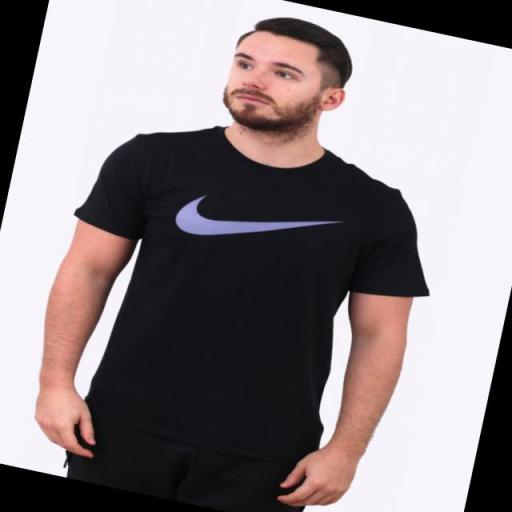Nike: (167, 186, 347, 268)
